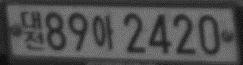0: (197, 14, 221, 56)
2: (122, 12, 147, 53), (172, 13, 196, 54)
4: (148, 13, 171, 54)
8: (45, 11, 67, 51)
9: (67, 12, 88, 51)
대전_V: (20, 10, 44, 50)
아: (91, 12, 115, 50)
